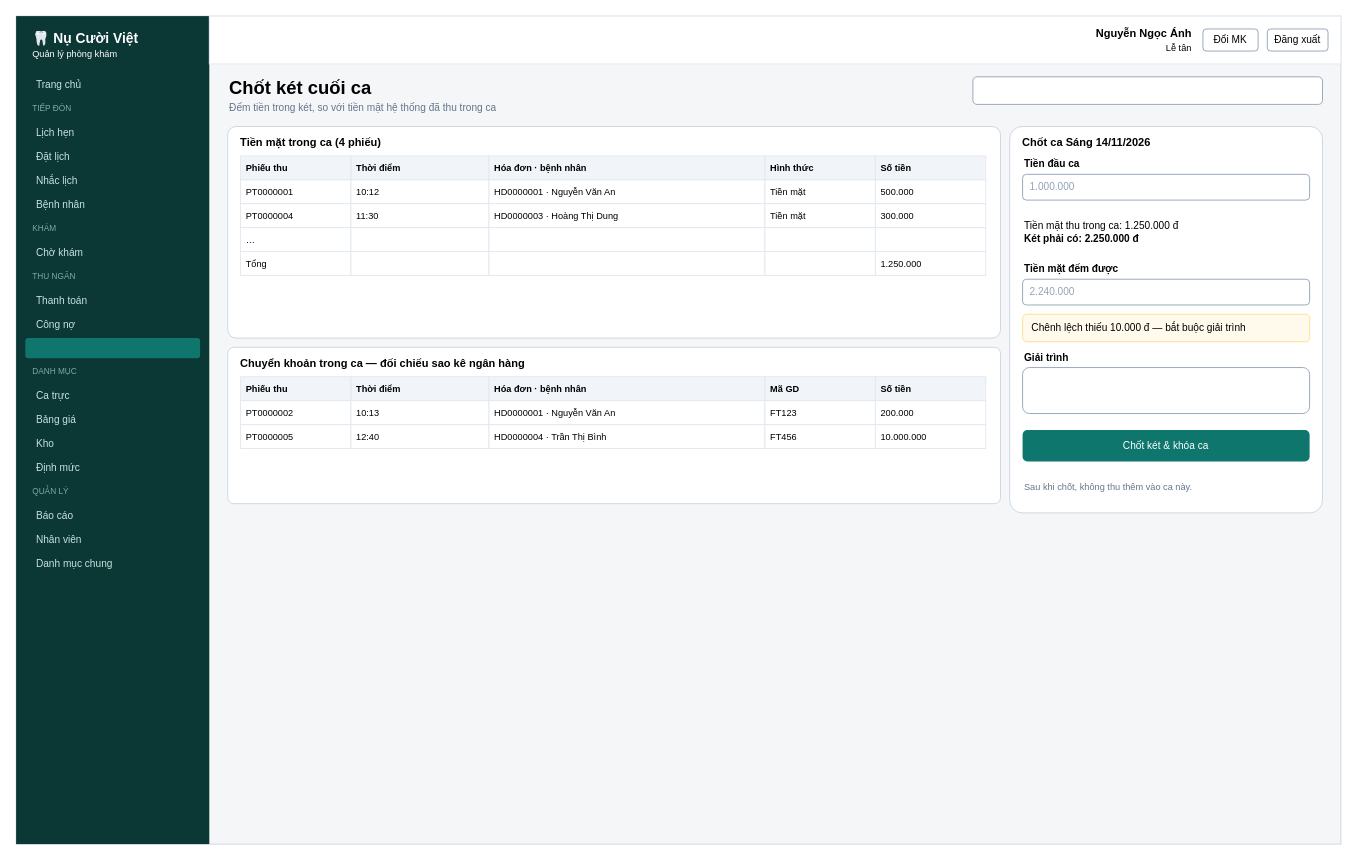
This 1357x860 diagram has some shape labels left out. The shapes that lost their labels are listed below. From the top down, each one's centre as x and y in pixels, then its label:
At pixel 1147 90: "14/11/2026 · Sáng 08:00–14:00 · Nguyễn Ngọc Ánh ▾".
At pixel 112 348: "Chốt két".
At pixel 1166 390: "Thối nhầm cho khách".
